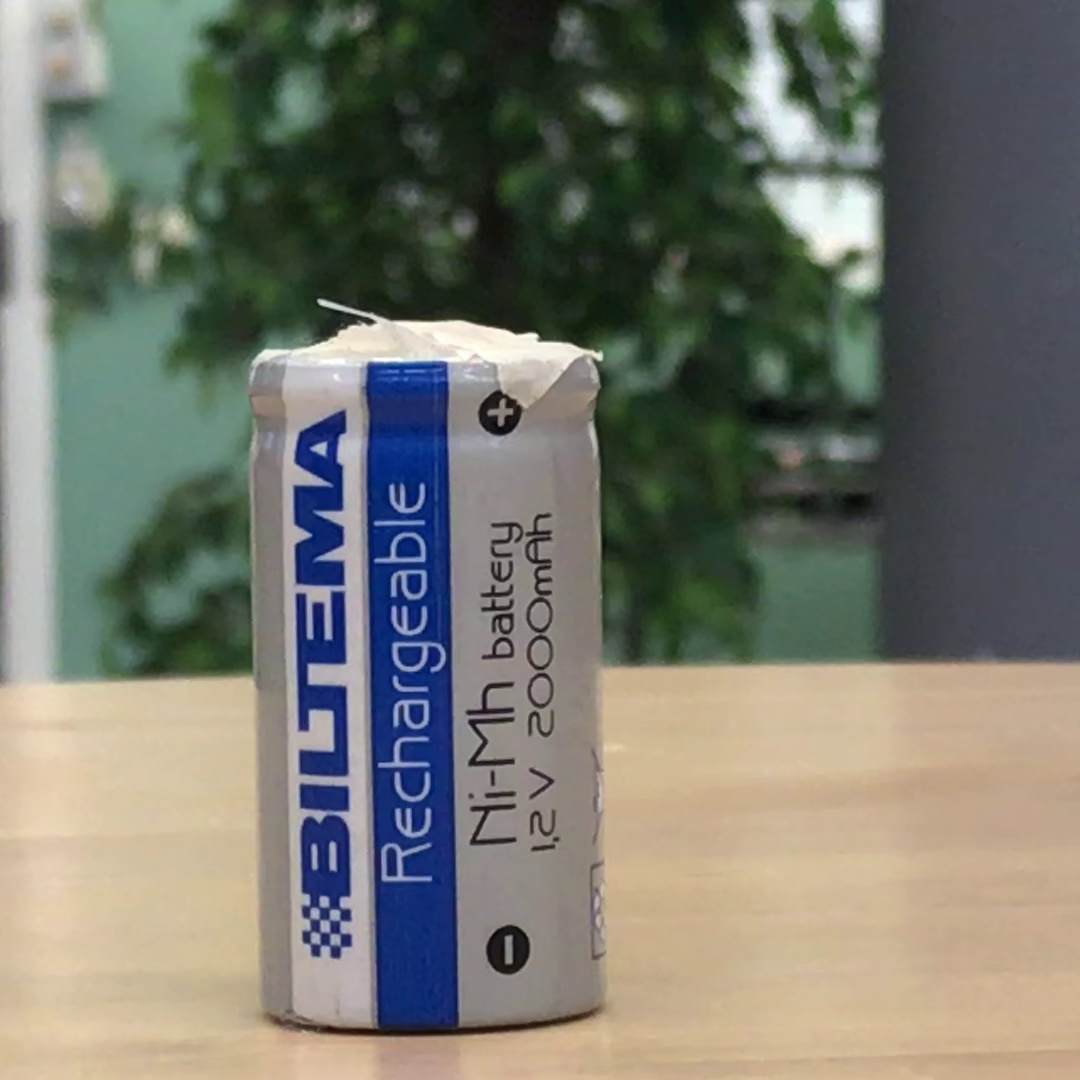keyword: (426, 651, 527, 855)
